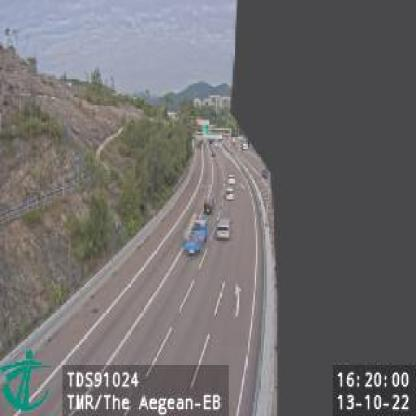Car: (217, 218, 234, 242), (205, 196, 216, 214), (225, 187, 235, 203), (226, 172, 237, 186)
Truck: (184, 220, 208, 259)
